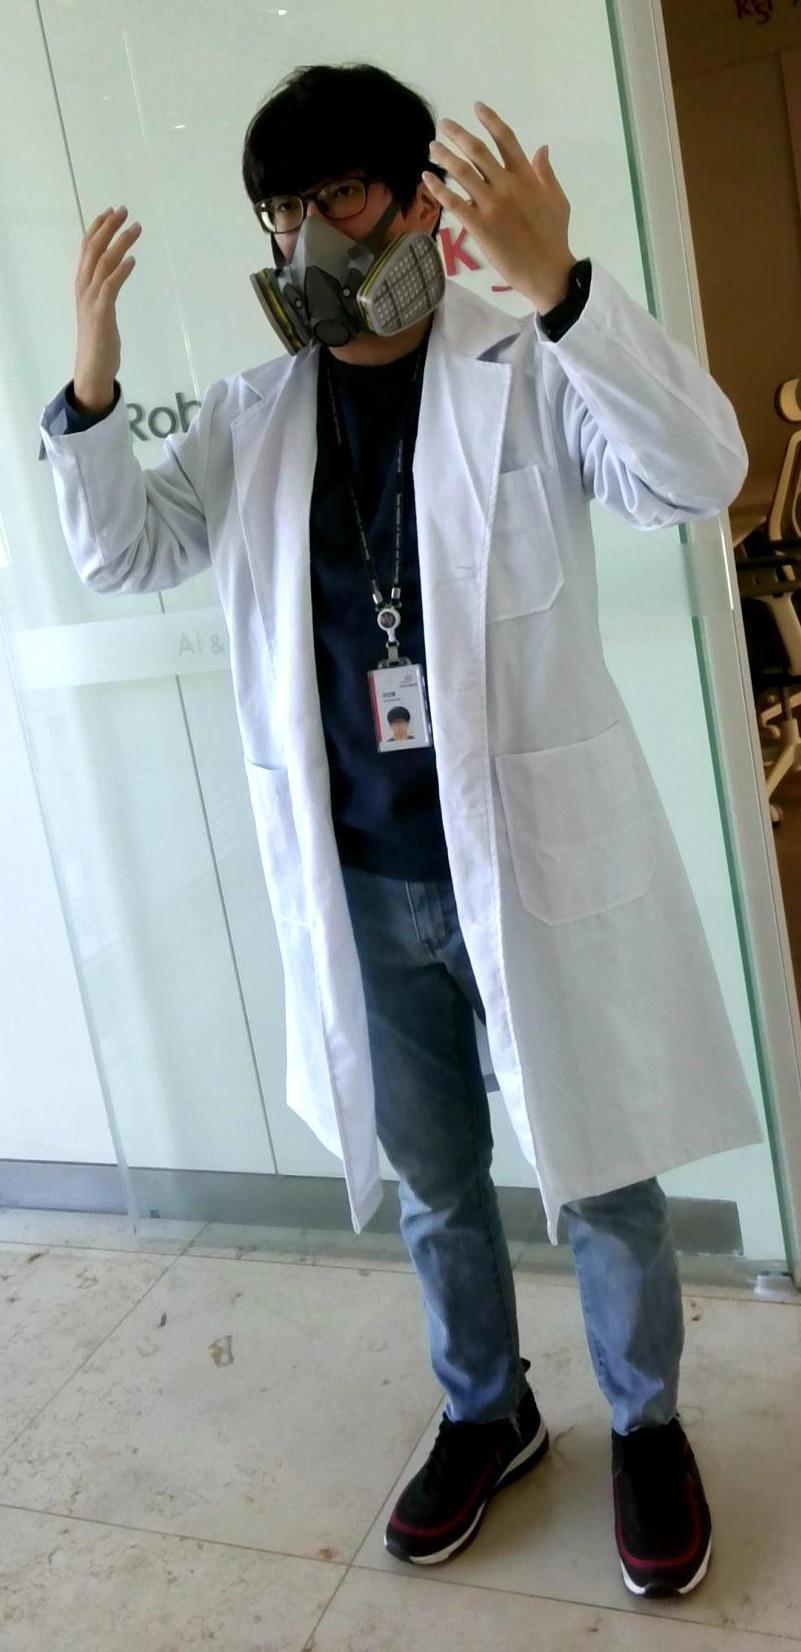lab_coat: (204, 346, 693, 1181)
